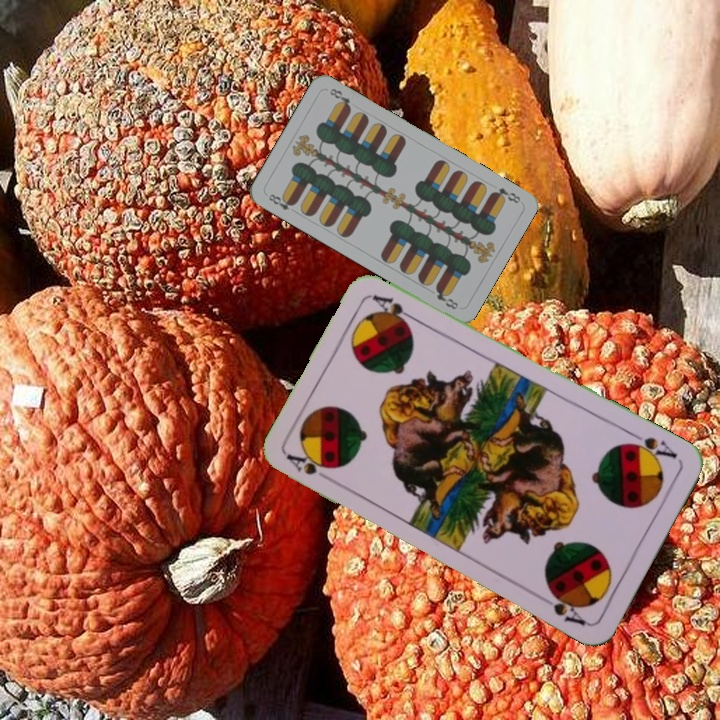E8: (264, 190, 300, 216), (487, 183, 523, 206)
SA: (622, 428, 680, 464), (283, 450, 336, 486)
